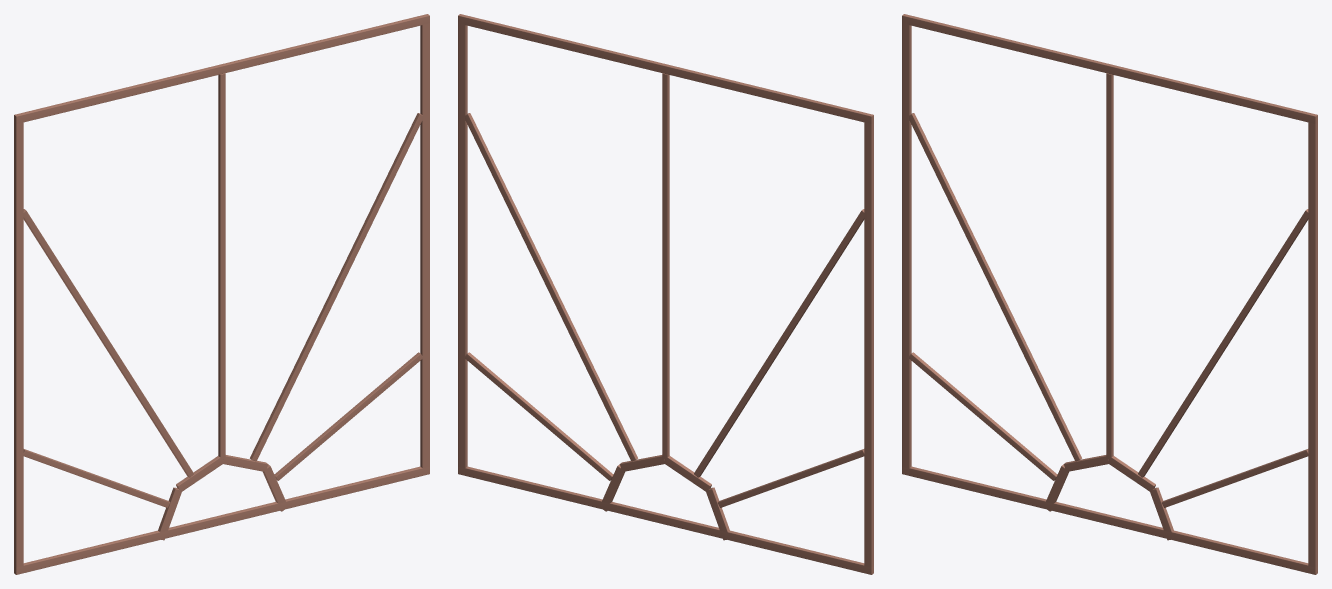
File: window-grille-sunburst-lod1.glb
3 views of the same model, side by side, from view 1: azimuth 30°, elevation 25°; view 2: azimuth 150°, elevation 25°; view 3: azimuth 330°, elevation 25° (orthographic).
Parts seen in each view (by area): view 1: window-grille-sunburst-lod1; view 2: window-grille-sunburst-lod1; view 3: window-grille-sunburst-lod1.
Boxes of the visible parts, x1,y1,x2,y2 form: window-grille-sunburst-lod1: [14, 14, 429, 574]; window-grille-sunburst-lod1: [458, 14, 873, 574]; window-grille-sunburst-lod1: [902, 14, 1317, 574].
Bounding box in the file's own units: 1.6 × 1.7 × 0.016.
